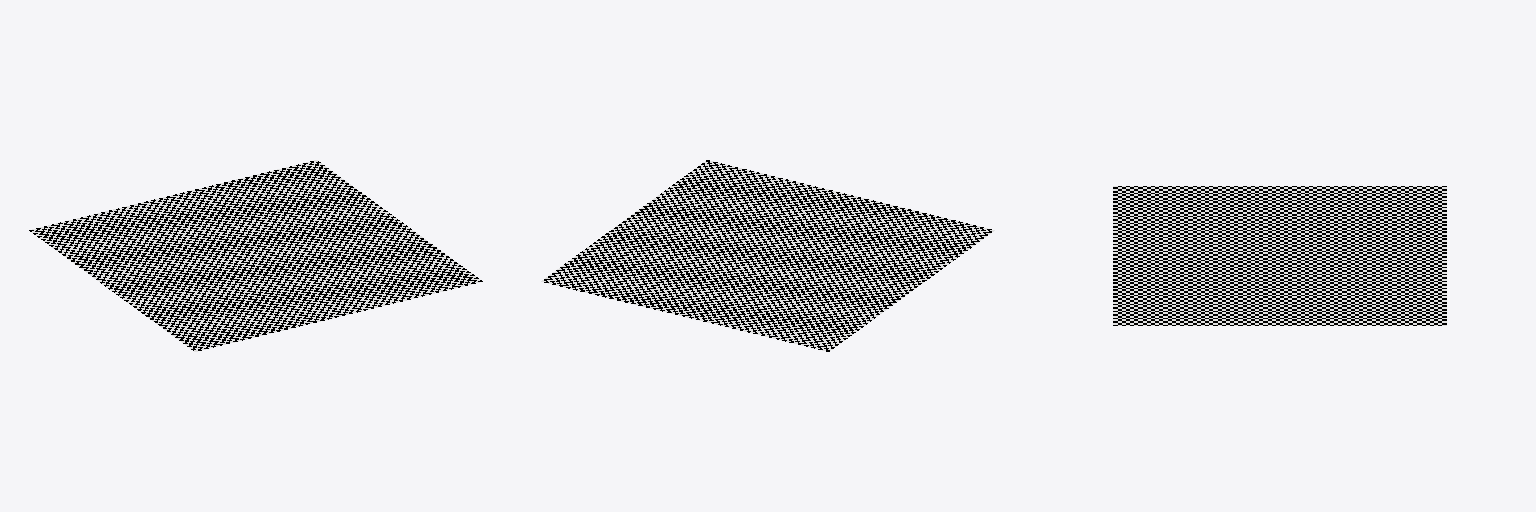
3 views of the same model, side by side, from view 1: azimuth 30°, elevation 25°; view 2: azimuth 150°, elevation 25°; view 3: azimuth 270°, elevation 25° (orthographic).
Visible parts, largest first — view 1: Plane; view 2: Plane; view 3: Plane.
Boxes of the visible parts, <box> form: Plane: <box>29,160,482,351</box>; Plane: <box>541,160,994,351</box>; Plane: <box>1113,186,1446,325</box>.
Size of the model in its own units: 80 by 0 by 80.
Materials: 1 (1 with a texture image).